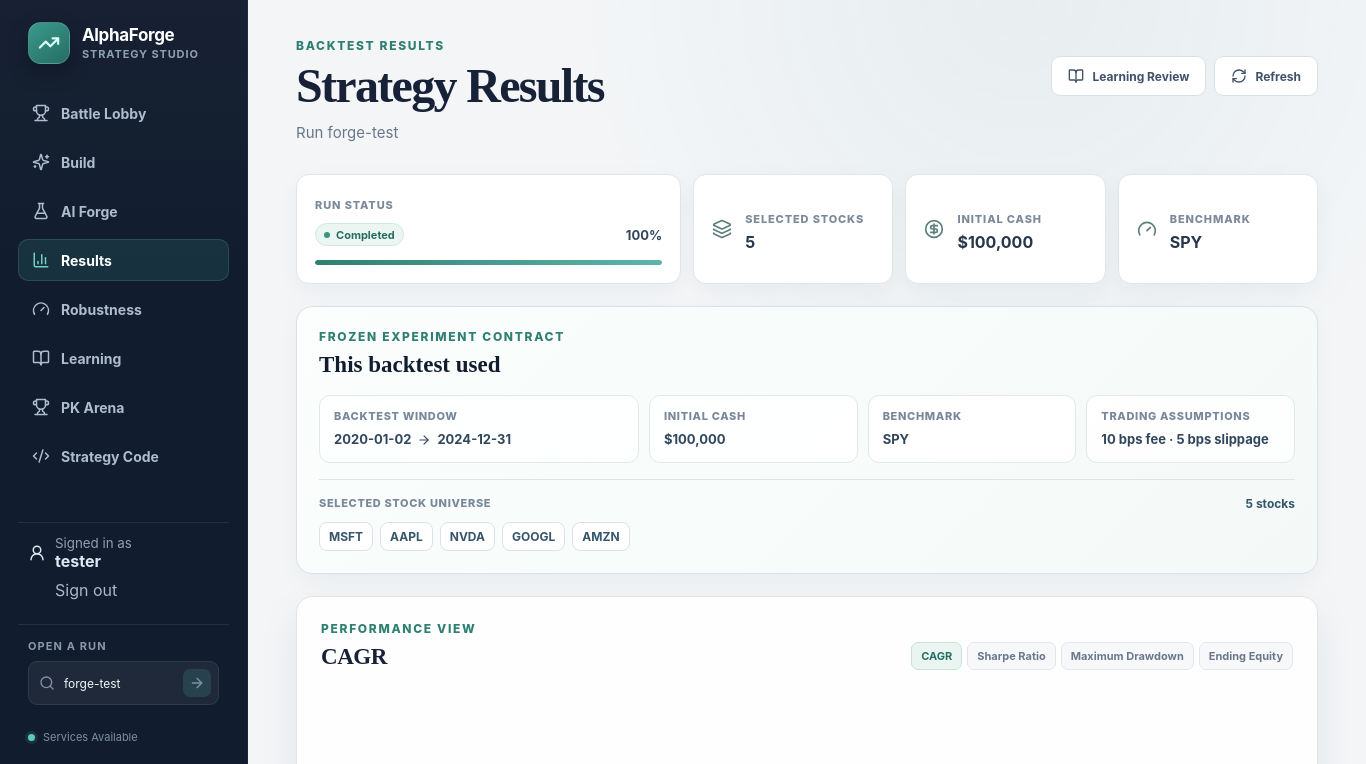
it: AlphaForge Studio › shows every Critic iteration and identifies the retained trial
Expected: the heading "Strategy Results" is shown, [296,61,604,111]
Click the button "AI Forge".
click(124, 211)  # box [18,190,229,232]
(page scrolled)
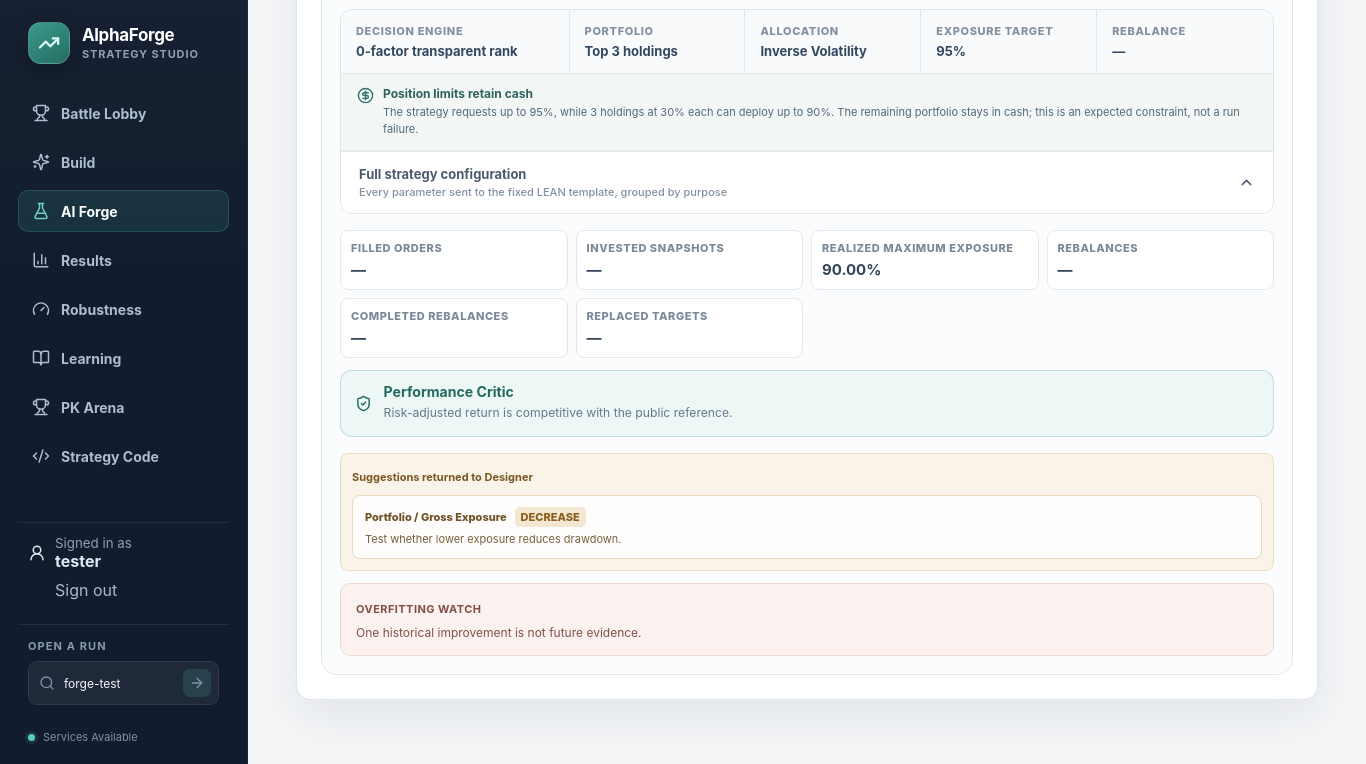
Result: the text "Performance Critic" is shown at [384,383,514,400]
Result: the text "Portfolio / Gross Exposure" is shown at [365,510,507,524]
